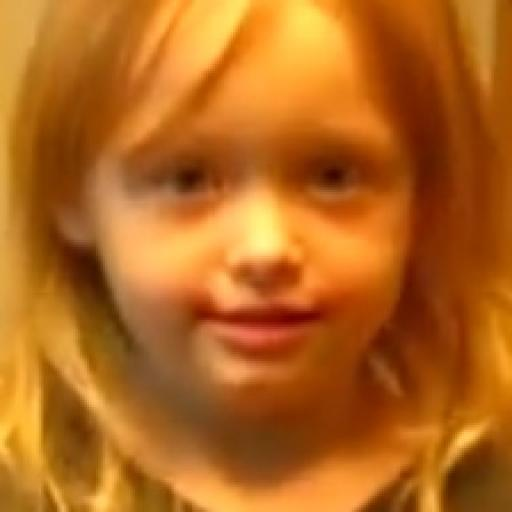Autism: (28, 18, 493, 479)
